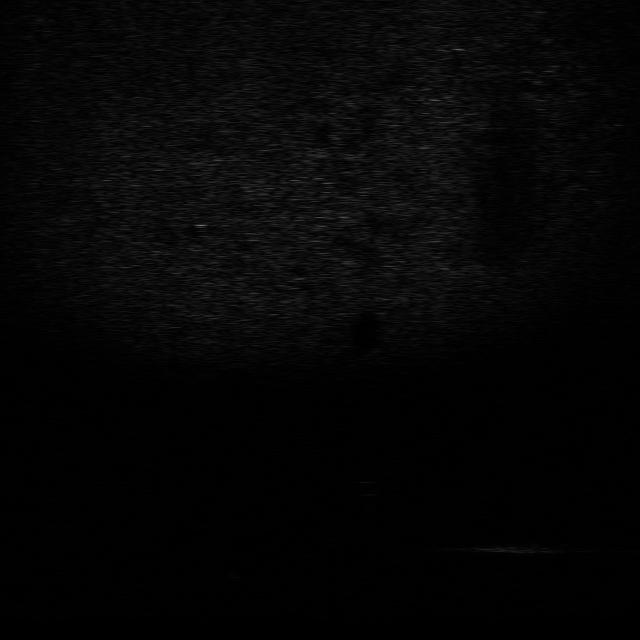ball: (346, 474, 384, 500)
metal bucket: (469, 533, 566, 558)
tyre: (222, 552, 286, 590)
